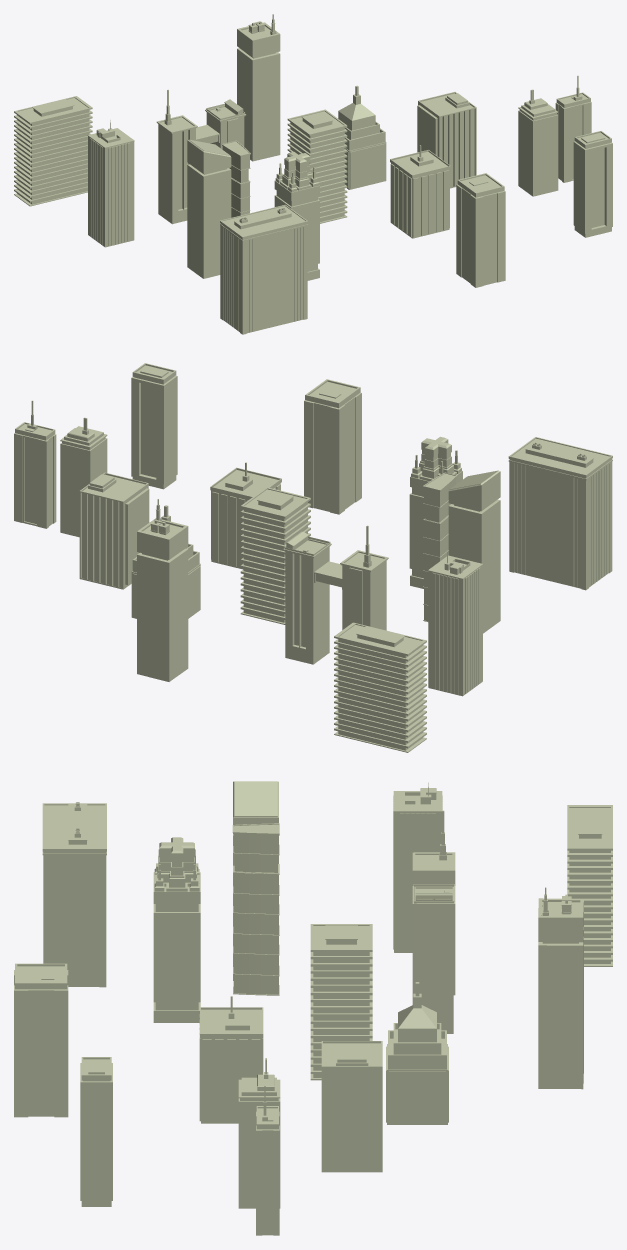
Rendered from city.obj.
3 views of the same model, one above another, from view 1: azimuth 30°, elevation 25°; view 2: azimuth 150°, elevation 25°; view 3: azimuth 270°, elevation 25° (orthographic). The views are drawn at different scales.
Visible parts, largest first — view 1: Highrise_14, Highrise_12, Highrise_11, Highrise_15, Highrise_7, Highrise_16, highrise_13, Highrise_6, Highrise_19, Highrise_2, Highrise_4, Highrise_1 (+4 smaller); view 2: Highrise_14, Highrise_12, highrise_13, Highrise_11, Highrise_15, Highrise_7, Highrise_19, Highrise_2, Highrise_16, Highrise_4, Highrise_5, Highrise_6 (+4 smaller); view 3: Highrise_14, Highrise_11, Highrise_7, Highrise_18, Highrise_2, Highrise_17, Highrise_19, highrise_13, Highrise_9, Highrise_6, Highrise_12, Highrise_15 (+4 smaller).
Part boxes in pixels (x1,y1,x2,y2): Highrise_14: (220, 204, 308, 334); Highrise_12: (14, 96, 92, 206); Highrise_11: (237, 14, 280, 161); Highrise_15: (87, 120, 134, 247); Highrise_7: (456, 173, 505, 287); Highrise_16: (187, 139, 231, 278); highrise_13: (156, 89, 246, 224); Highrise_6: (390, 145, 450, 238); Highrise_19: (287, 109, 347, 223); Highrise_2: (417, 92, 476, 188); Highrise_4: (573, 131, 612, 237); Highrise_1: (518, 89, 558, 196); Highrise_14: (508, 437, 612, 590); Highrise_12: (334, 622, 426, 752); highrise_13: (283, 525, 388, 664); Highrise_11: (137, 499, 188, 681); Highrise_15: (428, 552, 483, 696); Highrise_7: (304, 379, 361, 514); Highrise_19: (240, 487, 310, 624); Highrise_2: (79, 472, 149, 589); Highrise_16: (448, 470, 500, 633); Highrise_4: (131, 363, 177, 489); Highrise_5: (14, 400, 56, 528); Highrise_6: (210, 462, 281, 569); Highrise_14: (42, 802, 106, 987); Highrise_11: (538, 887, 583, 1089); Highrise_7: (14, 963, 68, 1117); Highrise_18: (153, 837, 200, 1022); Highrise_2: (321, 1041, 382, 1172); Highrise_17: (232, 823, 279, 995); Highrise_19: (310, 924, 372, 1080); highrise_13: (412, 810, 455, 1033); Highrise_9: (386, 982, 448, 1124); Highrise_6: (199, 996, 263, 1123); Highrise_12: (567, 805, 612, 966); Highrise_15: (393, 782, 442, 952).
Size of the model in its own units: 2428 by 721 by 1967.
